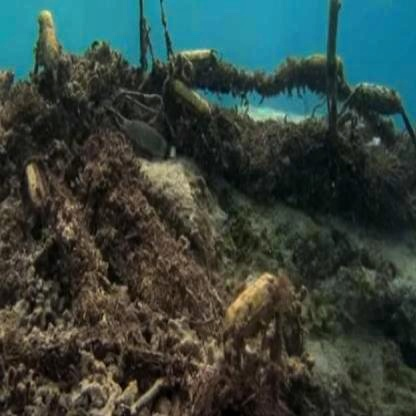net: (21, 84, 185, 401)
